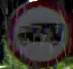Heavy Vehicles: (8, 0, 72, 68)
